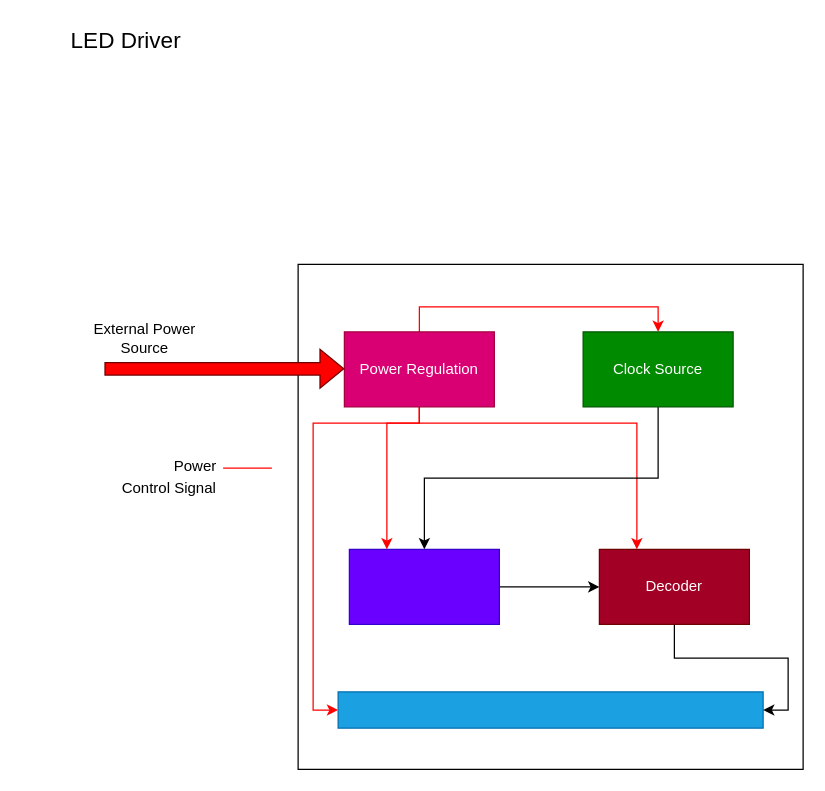
This 825x791 diagram has some shape labels left out. The centre of each missing label's shape, as x and y in pixels:
"4-bit Counter" goes at point 423,586.
"LED Farm" goes at point 550,709.
